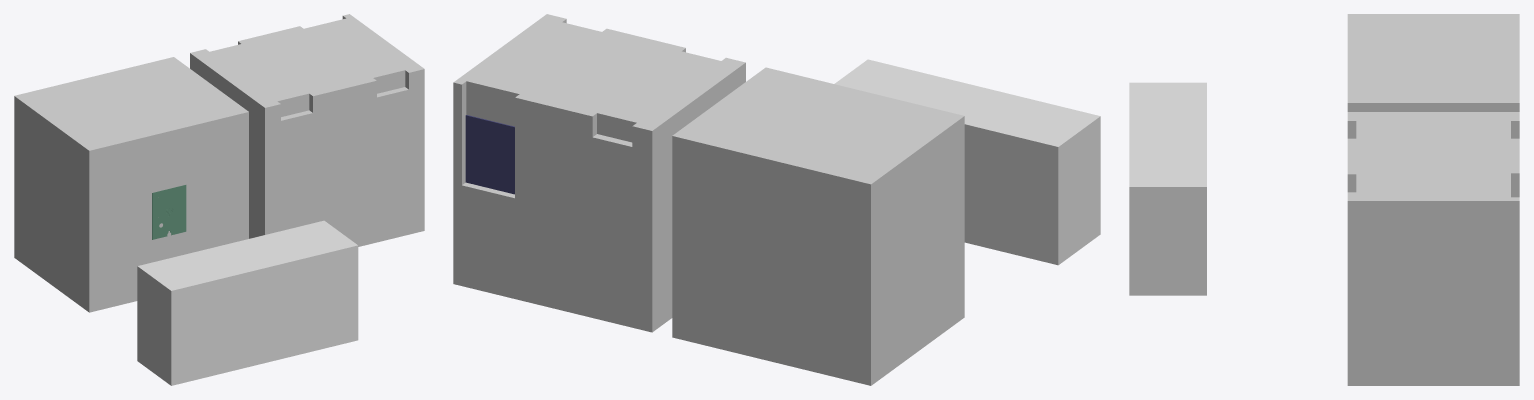
The model's file is assembly.glb.
3 views of the same model, side by side, from view 1: azimuth 30°, elevation 25°; view 2: azimuth 150°, elevation 25°; view 3: azimuth 270°, elevation 25° (orthographic). The views are drawn at different scales.
Visible parts, largest first — view 1: container_shell (×2), EXT-DC-001, ARC-PLT-CD; view 2: container_shell (×2), EXT-DC-001, GRD-SWG-001; view 3: container_shell (×2), EXT-DC-001.
Part boxes in pixels (left/top/right/bottom): container_shell (×2): left=14, top=14, right=424, bottom=312; EXT-DC-001: left=137, top=220, right=358, bottom=385; ARC-PLT-CD: left=152, top=185, right=186, bottom=239; container_shell (×2): left=453, top=14, right=964, bottom=385; EXT-DC-001: left=834, top=59, right=1100, bottom=265; GRD-SWG-001: left=465, top=115, right=514, bottom=194; container_shell (×2): left=1347, top=14, right=1519, bottom=385; EXT-DC-001: left=1129, top=82, right=1206, bottom=295.
Bounding box in the file's own units: 6536 × 2896 × 5538.
